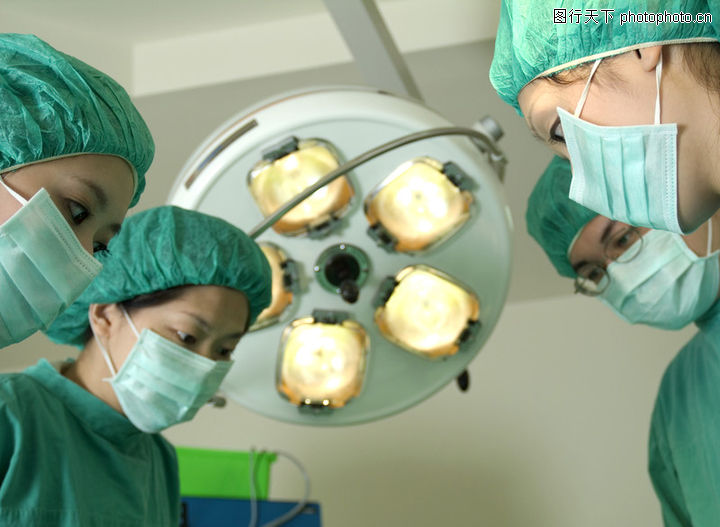face_mask: (519, 25, 710, 232), (1, 137, 136, 346), (108, 287, 250, 438), (565, 206, 717, 332)
